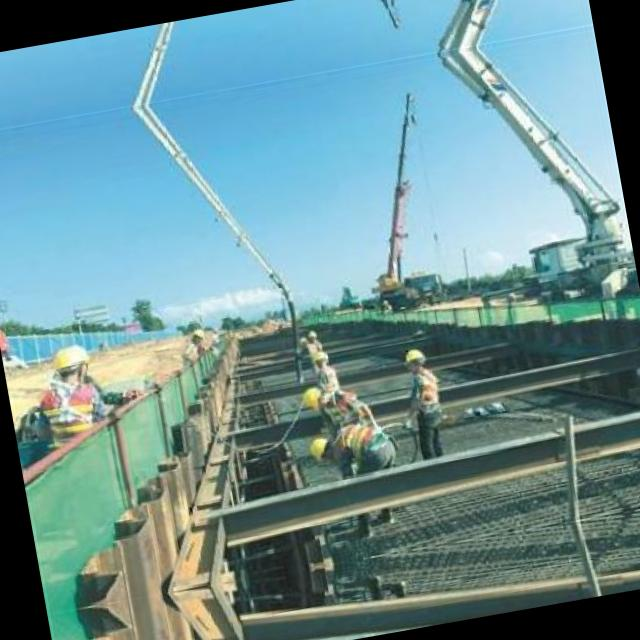helmet: (46, 337, 97, 391), (292, 380, 330, 412), (398, 342, 430, 374), (306, 430, 336, 460), (309, 346, 332, 369)
